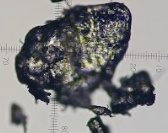microplastic: (13, 1, 133, 109), (109, 88, 156, 117), (120, 70, 156, 91), (9, 102, 29, 133), (26, 85, 52, 107), (82, 115, 113, 133), (86, 105, 115, 118), (50, 1, 66, 4)
